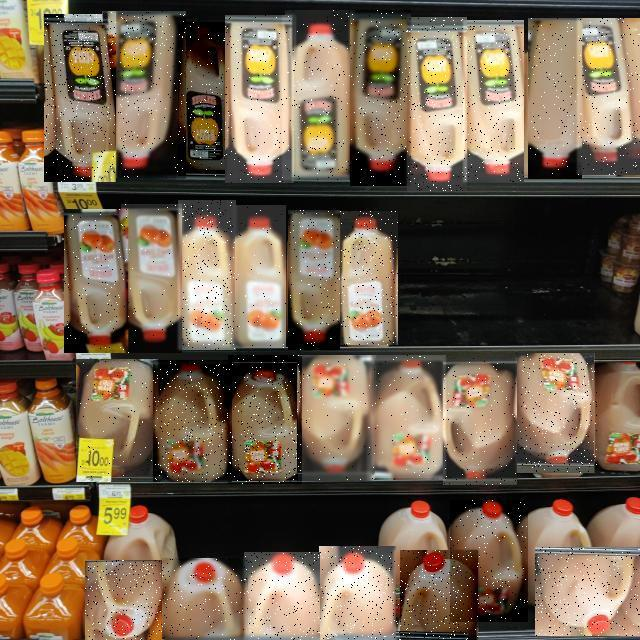Juice: (103, 12, 187, 180), (44, 14, 116, 182), (226, 15, 296, 183), (285, 10, 354, 180), (350, 10, 411, 186), (407, 17, 467, 191), (76, 359, 158, 482), (577, 18, 640, 175), (463, 20, 524, 182), (516, 353, 598, 473), (298, 355, 376, 481), (153, 360, 232, 482), (228, 355, 302, 484), (451, 501, 529, 623), (443, 357, 517, 485), (370, 356, 446, 480), (535, 547, 640, 636), (64, 209, 128, 353), (121, 204, 182, 353), (179, 200, 237, 350), (528, 18, 582, 179), (337, 211, 399, 345), (178, 22, 230, 176), (320, 546, 400, 640), (235, 205, 286, 348), (397, 550, 478, 640), (288, 210, 340, 350), (164, 558, 248, 640), (245, 552, 321, 640), (86, 560, 166, 640)
